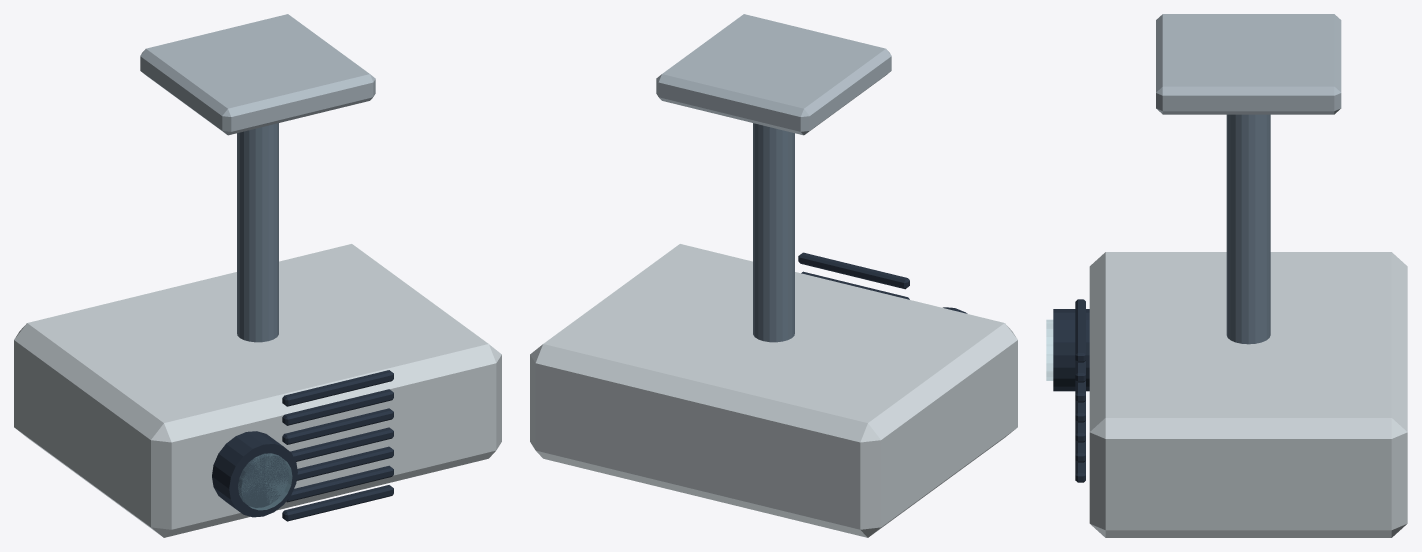
Rendered from school_04.glb.
3 views of the same model, side by side, from view 1: azimuth 30°, elevation 25°; view 2: azimuth 150°, elevation 25°; view 3: azimuth 270°, elevation 25° (orthographic). The views are drawn at different scales.
Visible parts, largest first — view 1: ProjectorBody, CeilingPlate, VentSlot (×7), ProjectorMount, Lens, LensGlass; view 2: ProjectorBody, CeilingPlate, ProjectorMount, VentSlot; view 3: ProjectorBody, CeilingPlate, ProjectorMount, Lens, VentSlot, LensGlass.
Boxes of the visible parts, x1,y1,x2,y2 form: ProjectorBody: (14, 244, 501, 537); CeilingPlate: (140, 14, 375, 135); VentSlot (×7): (282, 370, 393, 521); ProjectorMount: (237, 123, 278, 342); Lens: (212, 431, 297, 517); LensGlass: (238, 453, 292, 510); ProjectorBody: (530, 244, 1017, 537); CeilingPlate: (656, 14, 891, 135); ProjectorMount: (753, 123, 794, 342); VentSlot: (798, 252, 909, 289); ProjectorBody: (1089, 252, 1407, 537); CeilingPlate: (1156, 14, 1341, 114); ProjectorMount: (1226, 114, 1270, 344); Lens: (1053, 309, 1089, 391); VentSlot: (1075, 299, 1085, 362); LensGlass: (1046, 319, 1053, 380).
Bounding box in the file's own units: 0.48 × 0.5065 × 0.409.
